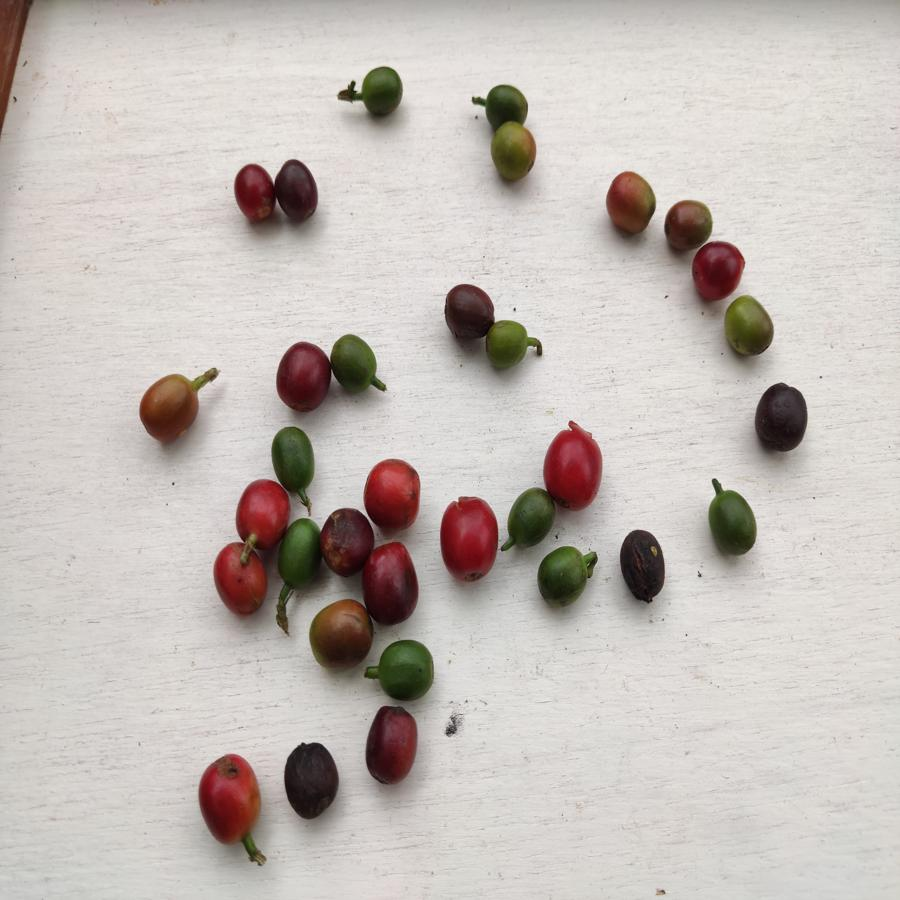Inmaduro: (375, 639, 438, 700), (705, 488, 762, 555), (268, 424, 320, 489), (537, 545, 589, 610), (279, 519, 321, 589), (504, 488, 553, 547), (330, 335, 378, 395), (483, 318, 535, 372), (358, 65, 405, 118), (484, 85, 532, 119)
Maduro: (198, 753, 265, 848), (437, 495, 502, 583), (543, 423, 604, 509), (364, 455, 423, 534), (213, 542, 268, 618), (233, 478, 283, 546), (233, 163, 273, 225)
Pinton: (308, 598, 371, 670), (138, 373, 198, 445), (606, 170, 657, 239), (723, 294, 777, 358), (489, 119, 537, 181), (664, 199, 713, 250)
Sobremaduro: (283, 738, 341, 818), (364, 704, 419, 787), (363, 541, 419, 622), (753, 381, 811, 455), (618, 528, 671, 604), (274, 343, 331, 413), (322, 505, 376, 574), (692, 239, 748, 297), (273, 159, 322, 224), (443, 283, 494, 340)
